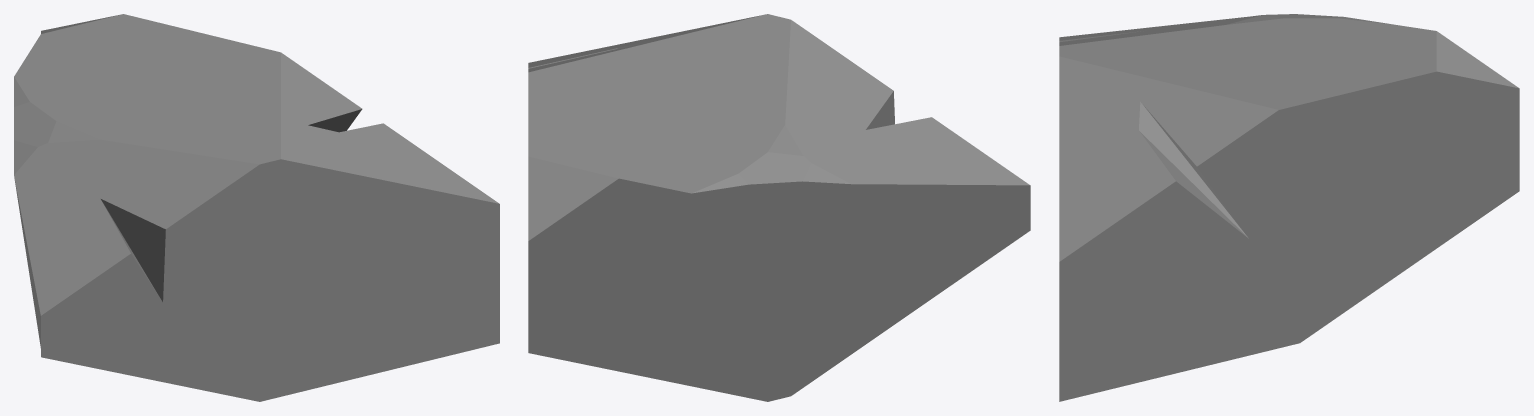
Rendered from Rock2.fbx.
3 views of the same model, side by side, from view 1: azimuth 30°, elevation 25°; view 2: azimuth 150°, elevation 25°; view 3: azimuth 270°, elevation 25° (orthographic). The views are drawn at different scales.
Parts seen in each view (by area): view 1: Rock2; view 2: Rock2; view 3: Rock2.
Boxes of the visible parts, x1,y1,x2,y2 form: Rock2: (14,14,499,401); Rock2: (528,14,1030,401); Rock2: (1059,14,1519,401).
Bounding box in the file's own units: 173 × 85.64 × 150.
